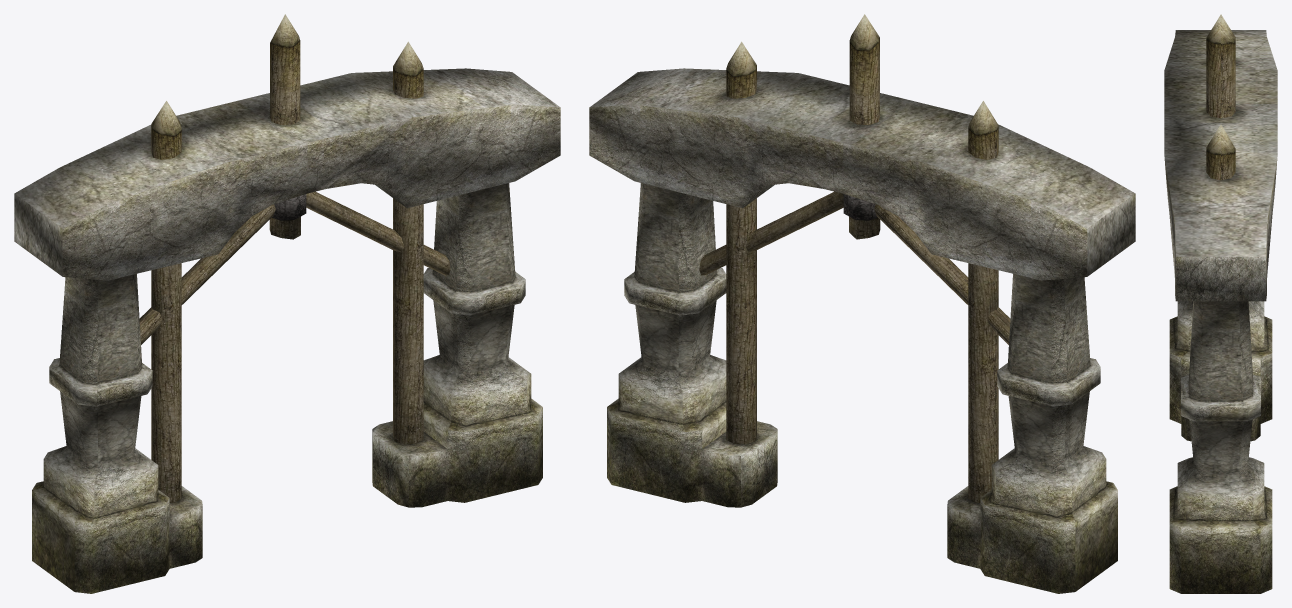
Rendered from playerportal.dae.
The picture shows the model from 3 angles, left to right: view 1: azimuth 30°, elevation 25°; view 2: azimuth 150°, elevation 25°; view 3: azimuth 270°, elevation 25°; orthographic projection. The views are drawn at different scales.
Parts seen in each view (by area): view 1: playerportal-0-Node_001; view 2: playerportal-0-Node_001; view 3: playerportal-0-Node_001.
Part boxes in pixels (bbox=[...]): playerportal-0-Node_001: bbox=[14, 14, 560, 593]; playerportal-0-Node_001: bbox=[589, 14, 1135, 593]; playerportal-0-Node_001: bbox=[1164, 14, 1277, 593].
Bounding box in the file's own units: 3.64 × 3.53 × 0.7671.
1 material, 1 textured.
